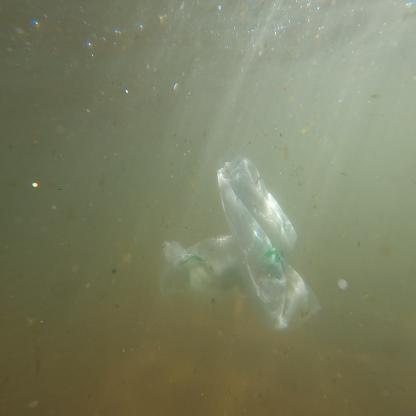Rác: (138, 153, 336, 346)
